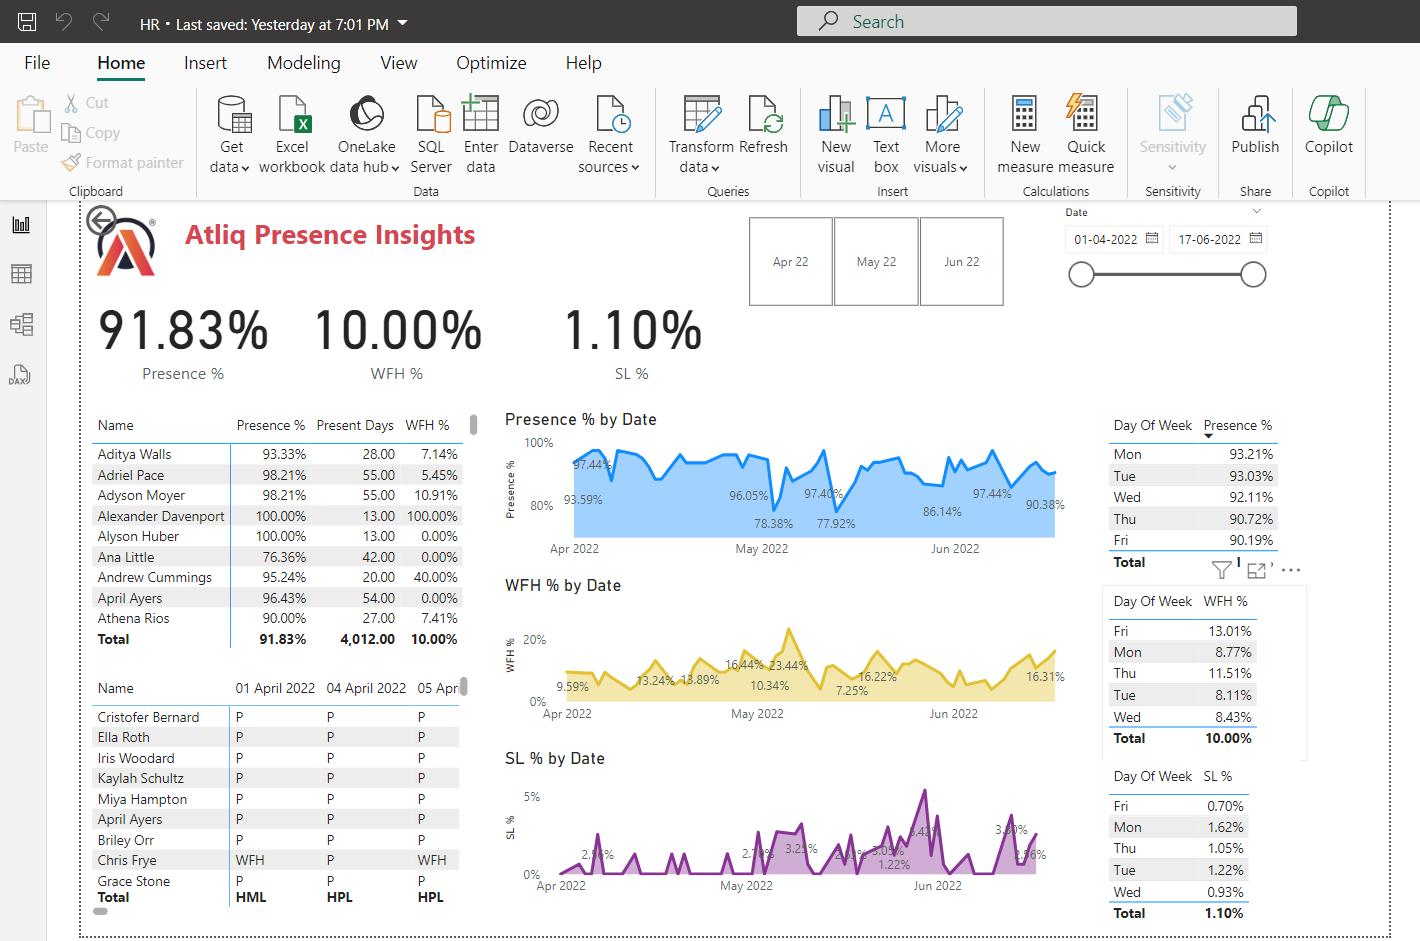

What the dashboard file says about the page in this screenshot:
{"tool":"powerbi","page":{"name":"Page 1","canvas":[1280,720],"ordinal":0},"visuals":[{"type":"card","fields":{"Values":["Measure.Presence %"]},"box":[0,81,200,100],"z":0},{"type":"slicer","fields":{"Values":["Final Data.MONTH"]},"box":[627.3,9.8,299.6,100.3],"z":1000},{"type":"card","fields":{"Values":["Measure.WFH %"]},"box":[208.6,81,200,100],"z":2000},{"type":"card","fields":{"Values":["Measure.SL %"]},"box":[439.1,81,200,100],"z":3000},{"type":"image","box":[10,10,70,71],"z":4000},{"type":"textbox","box":[96.1,9.6,312.9,54.9],"z":5000},{"type":"actionButton","box":[0,0,100,40],"z":6000},{"type":"pivotTable","fields":{"Rows":["Final Data.Name"],"Values":["Measure.Presence %","Measure.Present Days","Measure.WFH %"]},"box":[6.1,204.2,387.6,239.7],"z":7000},{"type":"pivotTable","fields":{"Rows":["Final Data.Name"],"Values":["Final Data.Value"],"Columns":["Final Data.Date"]},"box":[6.1,461,377.9,244.6],"z":8000},{"type":"stackedAreaChart","fields":{"Category":["Final Data.Date"],"Y":["Measure.Presence %"]},"box":[409.6,204.2,572.3,155.3],"z":8001},{"type":"stackedAreaChart","fields":{"Category":["Final Data.Date"],"Y":["Measure.WFH %"]},"box":[409.6,366.8,572.3,154.1],"z":8002},{"type":"stackedAreaChart","fields":{"Category":["Final Data.Date"],"Y":["Measure.SL %"]},"box":[409.6,535.6,553.9,154.1],"z":8003},{"type":"tableEx","fields":{"Values":["Final Data.Day Of Week","Measure.Presence %"]},"box":[999.1,204.2,200.5,172.4],"z":8004},{"type":"tableEx","fields":{"Values":["Final Data.Day Of Week","Measure.WFH %"]},"box":[999.1,376.6,200.5,172.4],"z":8005},{"type":"tableEx","fields":{"Values":["Final Data.Day Of Week","Measure.SL %"]},"box":[999.1,547.8,193.2,172.4],"z":8006},{"type":"slicer","fields":{"Values":["Final Data.Date"]},"box":[950.1,0,217.7,92.9],"z":8007}]}

Visuals, with their boxes on the page's 1280x720 design canvas (x1, y1, x2, y2). These are canvas units, not pixel positions in the 1420x941 screenshot, which may show the page scaled, cropped or inside an application window:
card - Measure.Presence %: [0, 81, 200, 181]
slicer - Final Data.MONTH: [627, 10, 927, 110]
card - Measure.WFH %: [209, 81, 409, 181]
card - Measure.SL %: [439, 81, 639, 181]
image: [10, 10, 80, 81]
textbox: [96, 10, 409, 64]
actionButton: [0, 0, 100, 40]
pivotTable - Final Data.Name x Measure.Presence %: [6, 204, 394, 444]
pivotTable - Final Data.Name x Final Data.Value: [6, 461, 384, 706]
stackedAreaChart - Final Data.Date x Measure.Presence %: [410, 204, 982, 360]
stackedAreaChart - Final Data.Date x Measure.WFH %: [410, 367, 982, 521]
stackedAreaChart - Final Data.Date x Measure.SL %: [410, 536, 964, 690]
tableEx - Final Data.Day Of Week x Measure.Presence %: [999, 204, 1200, 377]
tableEx - Final Data.Day Of Week x Measure.WFH %: [999, 377, 1200, 549]
tableEx - Final Data.Day Of Week x Measure.SL %: [999, 548, 1192, 720]
slicer - Final Data.Date: [950, 0, 1168, 93]
